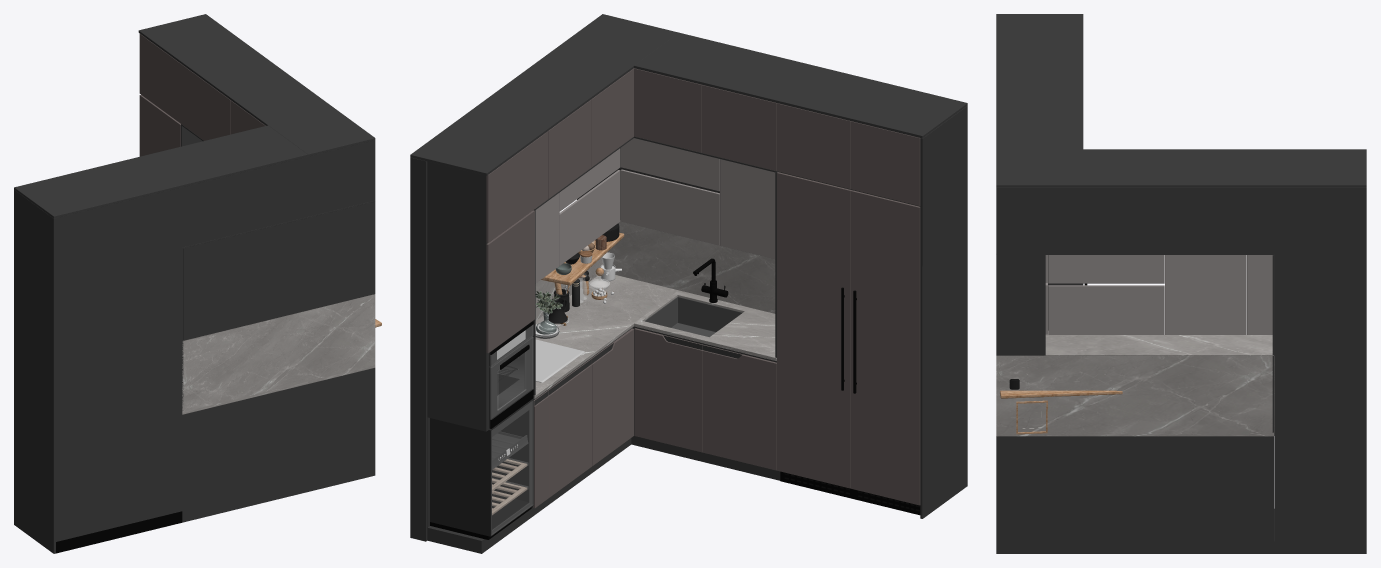
File: hunter-house-kitchen-jpeg75-v002.glb
3 renders of one model, left to right at view 1: azimuth 30°, elevation 25°; view 2: azimuth 150°, elevation 25°; view 3: azimuth 270°, elevation 25°, orthographic. The views are drawn at different scales.
Parts seen in each view (by area): view 1: Kitchen; view 2: Kitchen, refrigerator for drinks, Oven, sink, cooking surface, kitchen accessories138; view 3: Kitchen, kitchen accessories138.
Part boxes in pixels (x1,y1,x2,y2): Kitchen: (14, 14, 375, 553); Kitchen: (410, 14, 967, 553); refrigerator for drinks: (430, 398, 533, 539); Oven: (489, 321, 533, 428); sink: (644, 297, 742, 337); cooking surface: (535, 339, 584, 382); kitchen accessories138: (541, 232, 624, 285); Kitchen: (996, 14, 1366, 553); kitchen accessories138: (1000, 390, 1122, 398).
Bounding box in the file's own units: 3.02 × 2.94 × 2.68.
Materials: 56 (12 with a texture image).
